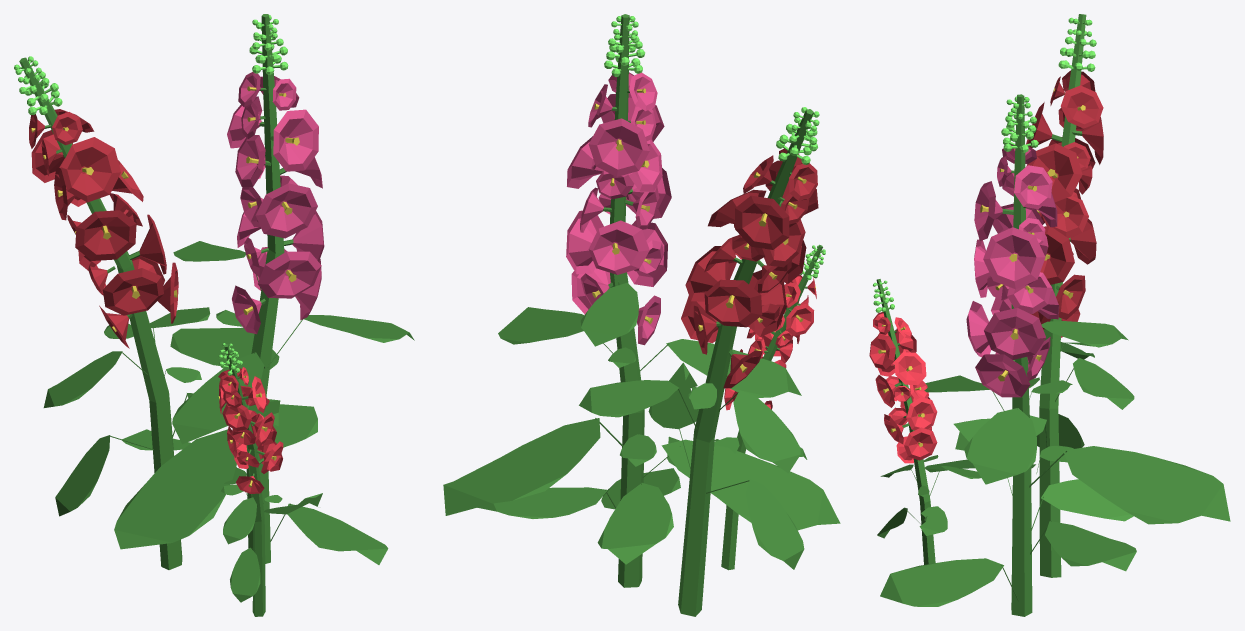
Rendered from HOLLYHOCK_V1.fbx.
The picture shows the model from 3 angles, left to right: view 1: azimuth 30°, elevation 25°; view 2: azimuth 150°, elevation 25°; view 3: azimuth 270°, elevation 25°; orthographic projection. The views are drawn at different scales.
Visible parts, largest first — view 1: Cylinder, Cylinder.001, Cylinder.002; view 2: Cylinder, Cylinder.001, Cylinder.002; view 3: Cylinder, Cylinder.001, Cylinder.002.
Boxes of the visible parts, x1,y1,x2,y2 form: Cylinder: (114,14,414,564); Cylinder.001: (14,56,280,569); Cylinder.002: (218,343,322,616); Cylinder: (443,14,840,587); Cylinder.001: (579,107,819,616); Cylinder.002: (667,244,825,570); Cylinder: (880,94,1230,616); Cylinder.001: (953,14,1134,577); Cylinder.002: (869,279,981,564).
Bounding box in the file's own units: 96.98 × 147 × 91.15.
